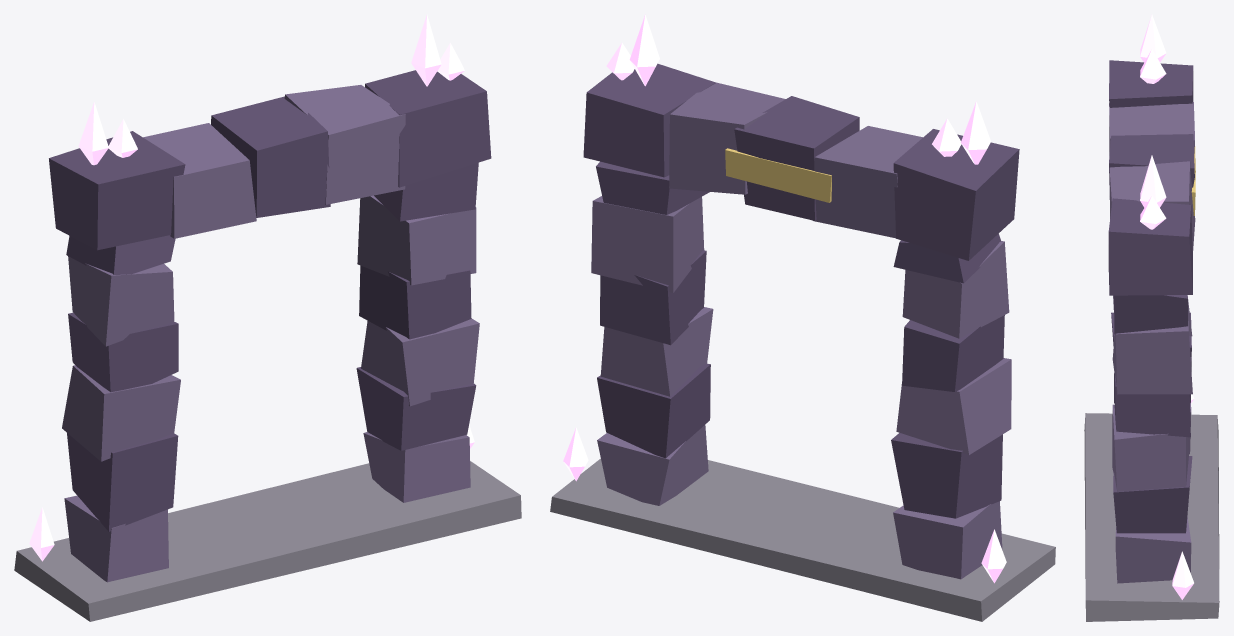
File: story-portal.glb
3 renders of one model, left to right at view 1: azimuth 30°, elevation 25°; view 2: azimuth 150°, elevation 25°; view 3: azimuth 270°, elevation 25°, orthographic. The views are drawn at different scales.
Visible parts, largest first — view 1: portal-stone, portal-stone-light, portal-base, portal-crystal; view 2: portal-stone, portal-stone-light, portal-base, portal-crystal, portal-gold; view 3: portal-stone, portal-stone-light, portal-base, portal-crystal.
Part boxes in pixels (x1,y1,x2,y2): portal-stone: (49, 70, 491, 531); portal-stone-light: (62, 85, 479, 582); portal-base: (14, 461, 521, 621); portal-crystal: (29, 14, 474, 561); portal-stone: (583, 63, 1019, 518); portal-stone-light: (591, 82, 1011, 579); portal-base: (550, 458, 1055, 621); portal-crystal: (563, 14, 1006, 583); portal-gold: (725, 148, 831, 202); portal-stone: (1108, 60, 1194, 533); portal-stone-light: (1109, 102, 1195, 583); portal-base: (1084, 413, 1219, 621); portal-crystal: (1140, 14, 1194, 599).
Bounding box in the file's own units: 3.79 × 4.03 × 1.11.
